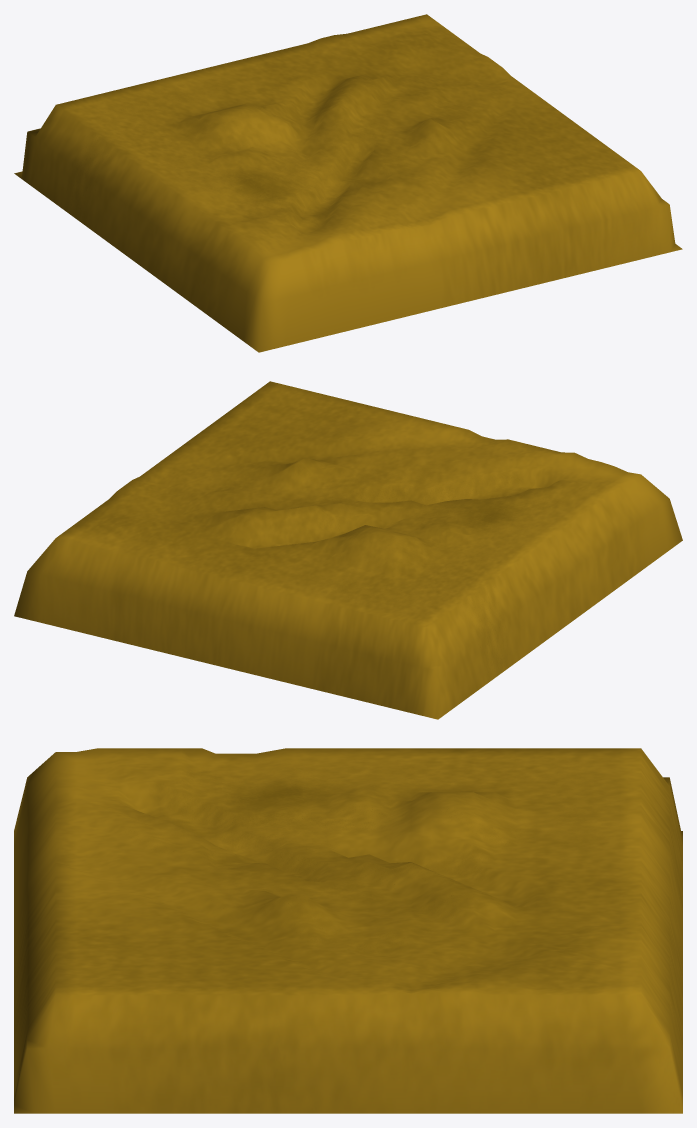
File: P_Seascape.gltf
The picture shows the model from 3 angles, top to bottom: view 1: azimuth 30°, elevation 25°; view 2: azimuth 150°, elevation 25°; view 3: azimuth 270°, elevation 25°; orthographic projection. The views are drawn at different scales.
Parts seen in each view (by area): view 1: Plane; view 2: Plane; view 3: Plane.
Boxes of the visible parts, <box> form: Plane: <box>14,14,682,352</box>; Plane: <box>14,381,682,719</box>; Plane: <box>14,748,682,1113</box>.
Size of the model in its own units: 223 by 45.11 by 223.
Materials: 1 (1 with a texture image).
